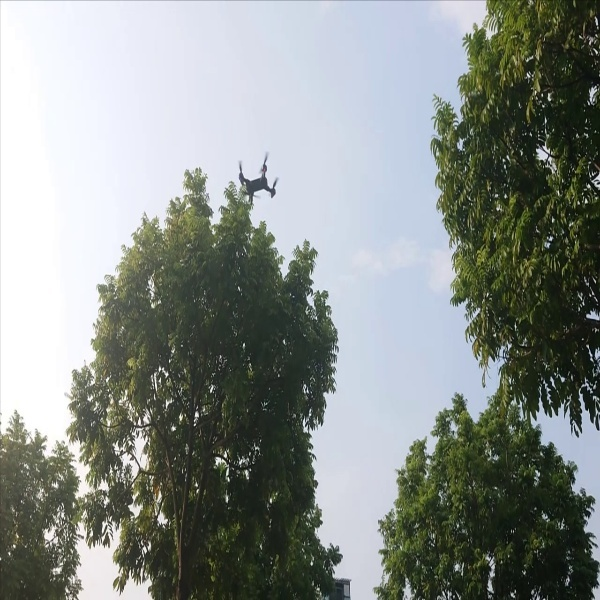drone: (231, 152, 283, 211)
